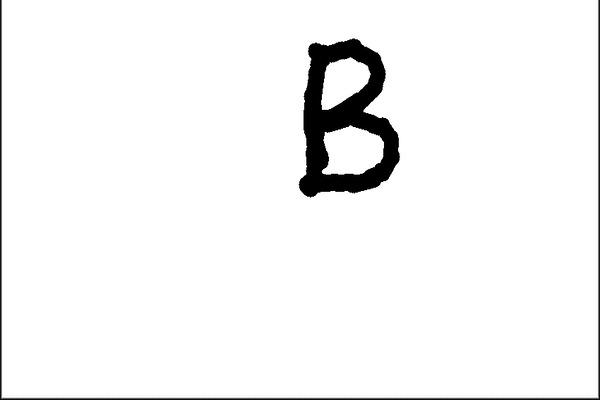B: (286, 35, 412, 206)
